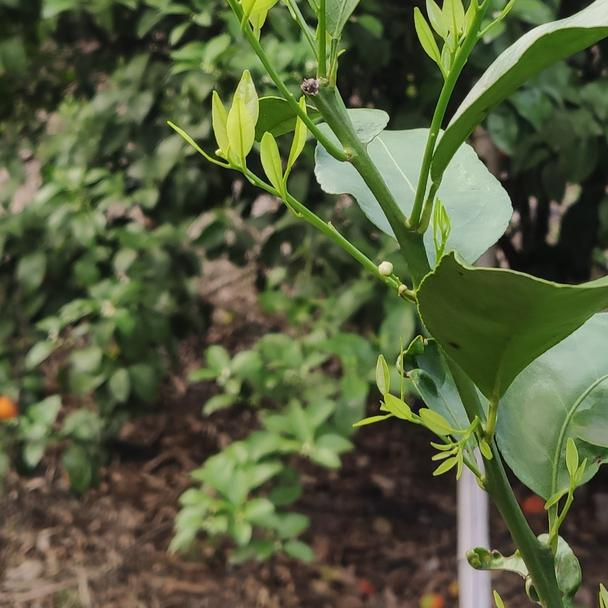shoot: (193, 80, 322, 240)
